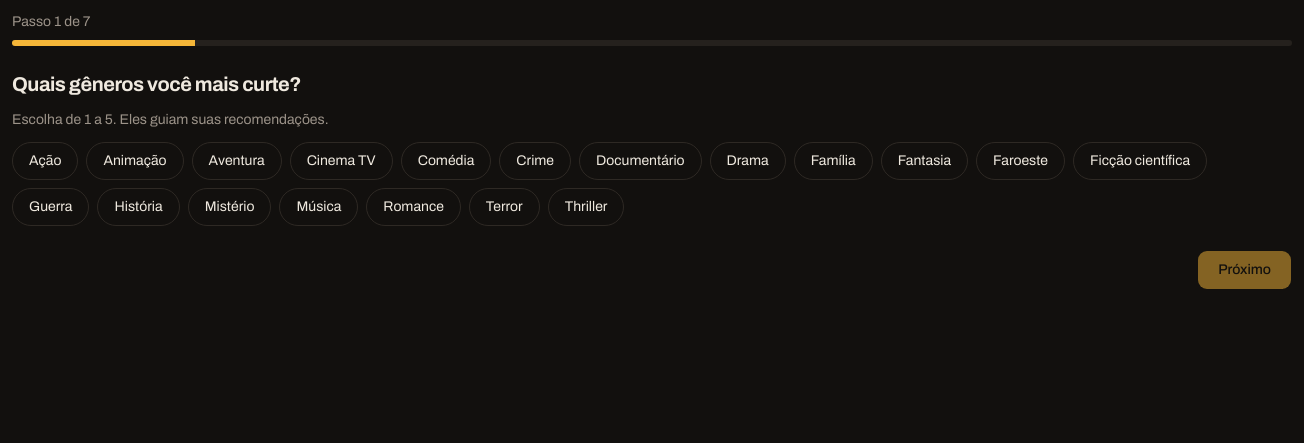
Test case: OnboardingWizard › duração e frequência são obrigatórias
The width and height of the screenshot is (1304, 443).
Click the button "Ação" at (45, 161), box [12,142,78,180]
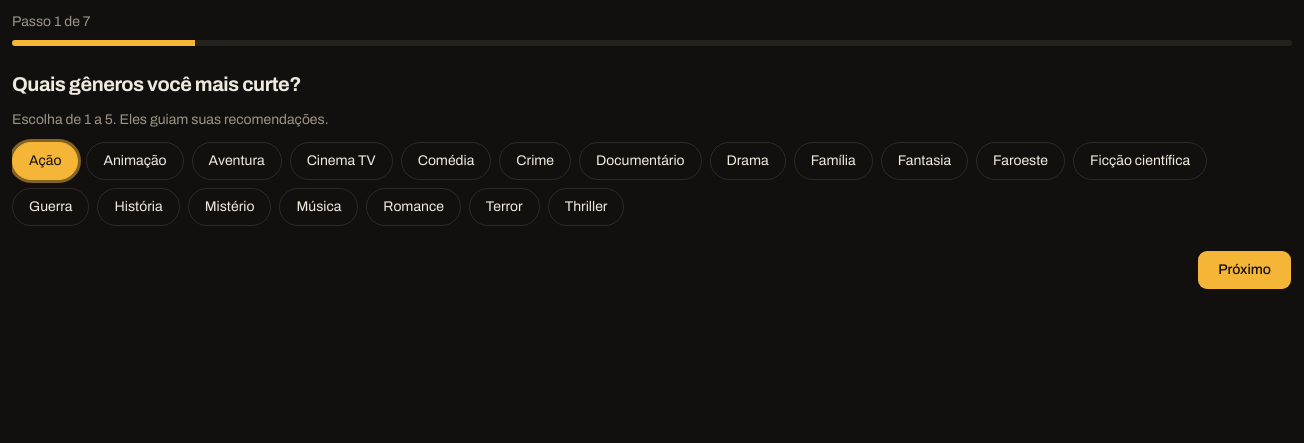
Click the button "Próximo" at (1245, 270), box [1197,250,1292,290]
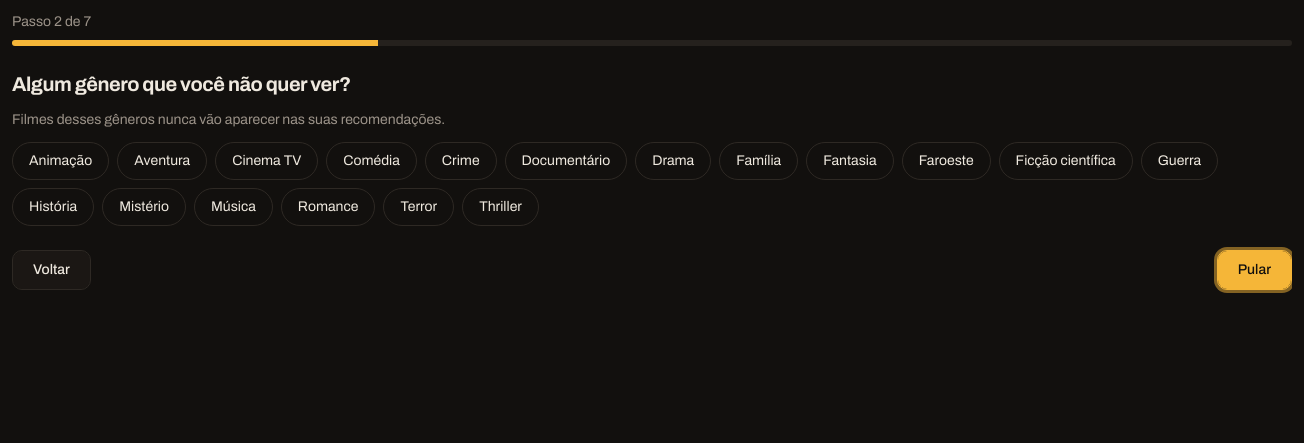
Click the button "Pular" at (1254, 270), box [1217,250,1292,290]
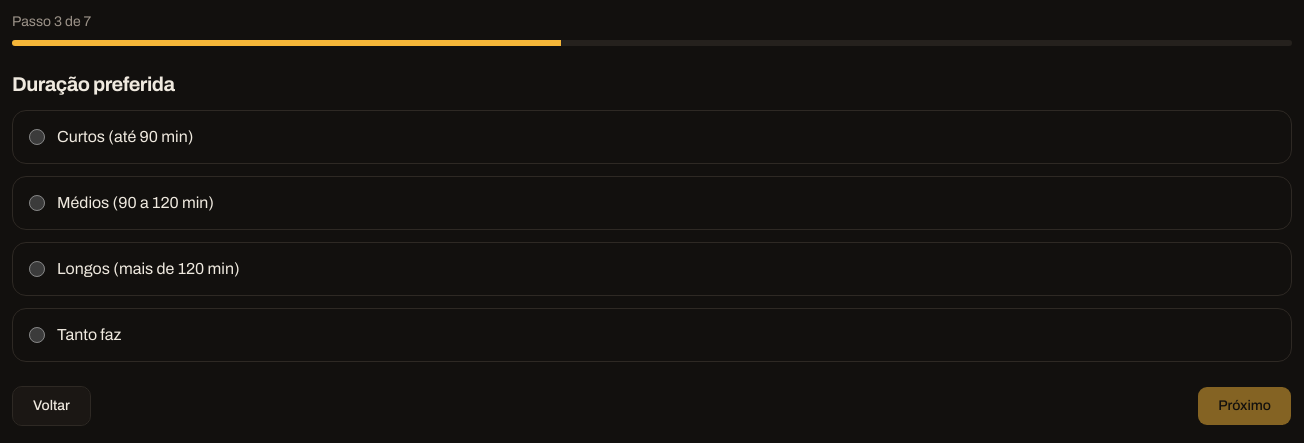
expect the element "Duração preferida" is shown: met
expect the button "Próximo" is disabled: met, box [1197,386,1292,426]
